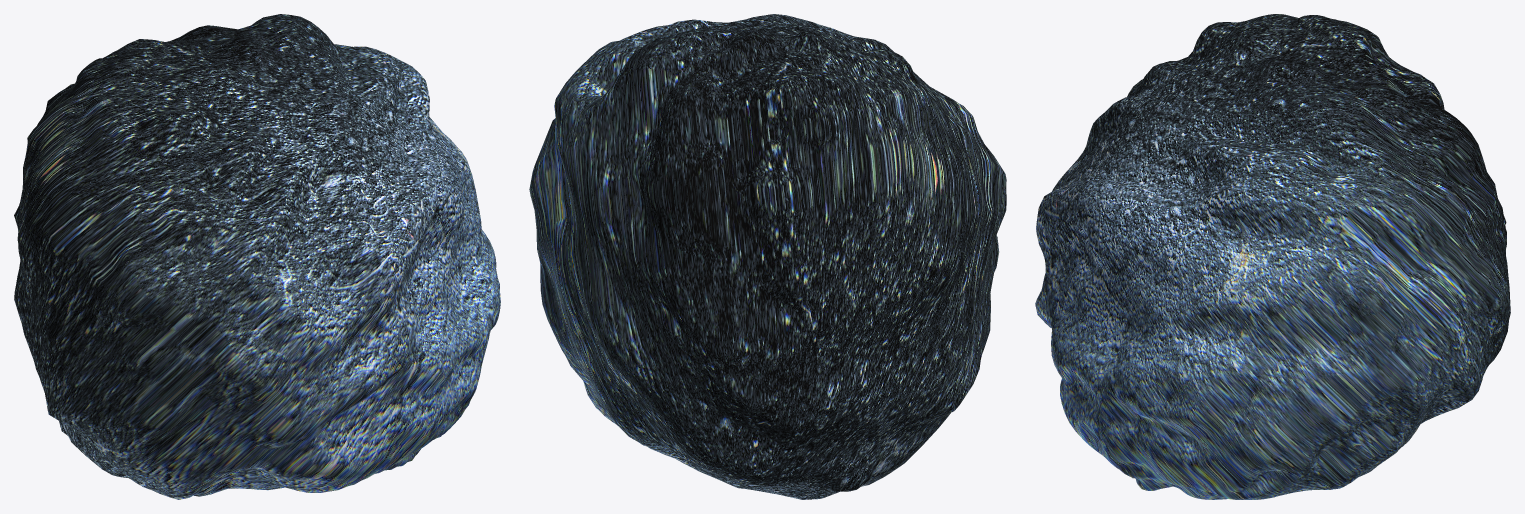
Rendered from IronFBX.fbx.
3 views of the same model, side by side, from view 1: azimuth 30°, elevation 25°; view 2: azimuth 150°, elevation 25°; view 3: azimuth 270°, elevation 25° (orthographic). The views are drawn at different scales.
Parts seen in each view (by area): view 1: pSphere2; view 2: pSphere2; view 3: pSphere2.
Part boxes in pixels (left/top/right/bottom): pSphere2: left=14, top=14, right=500, bottom=499; pSphere2: left=529, top=14, right=1006, bottom=499; pSphere2: left=1035, top=14, right=1510, bottom=499.
Size of the model in its own units: 9.59 by 9.43 by 9.64.
